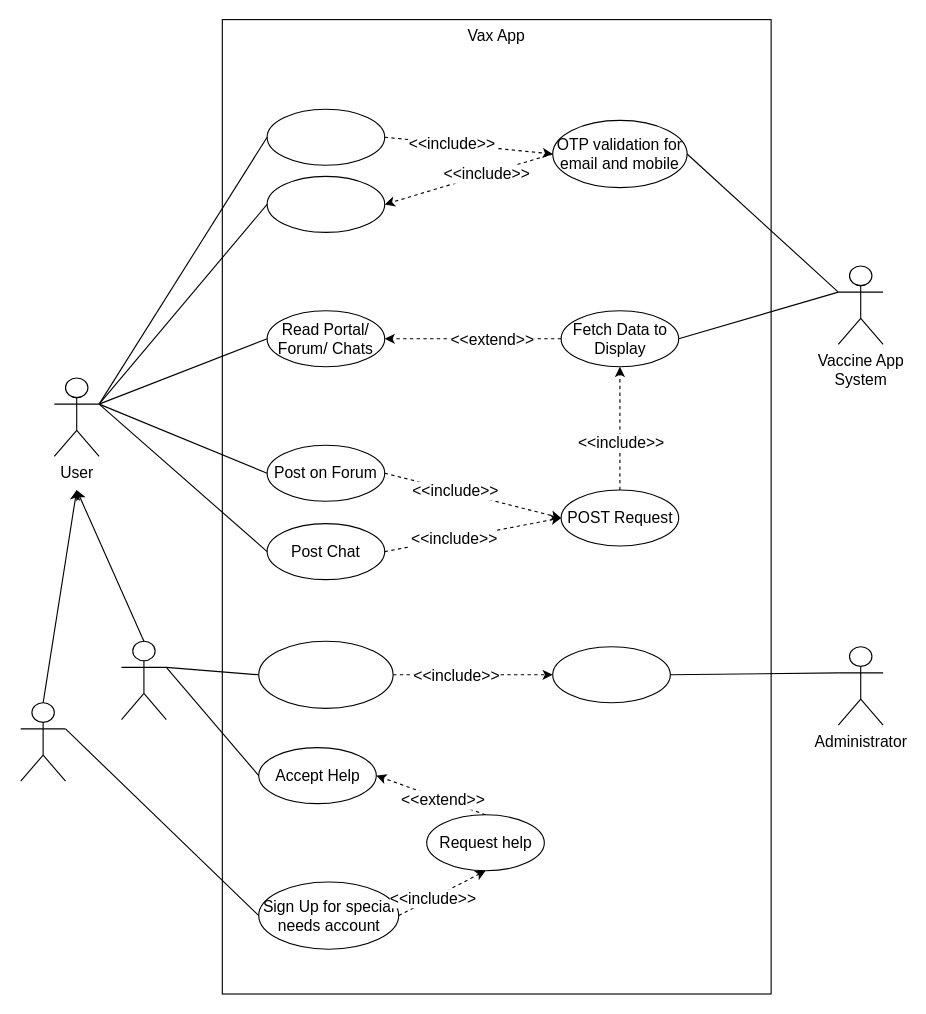
Image size: 926x1014. Some labels were removed from this diagram. The shapes that lost their labels are listed below. From the top down, each one's box as (x1, y1, x2, y2) in pixels, then its label:
(266, 108, 385, 165): Sign Up
(266, 175, 385, 232): Log In
(120, 640, 166, 720): Volunteer
(258, 640, 393, 708): Sign Up for Volunteer account
(552, 646, 670, 703): Authenticate
(20, 702, 66, 781): Elderly
